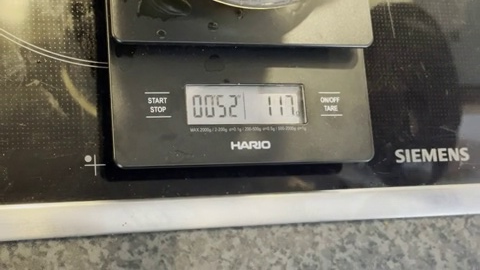display: (186, 84, 303, 124)
